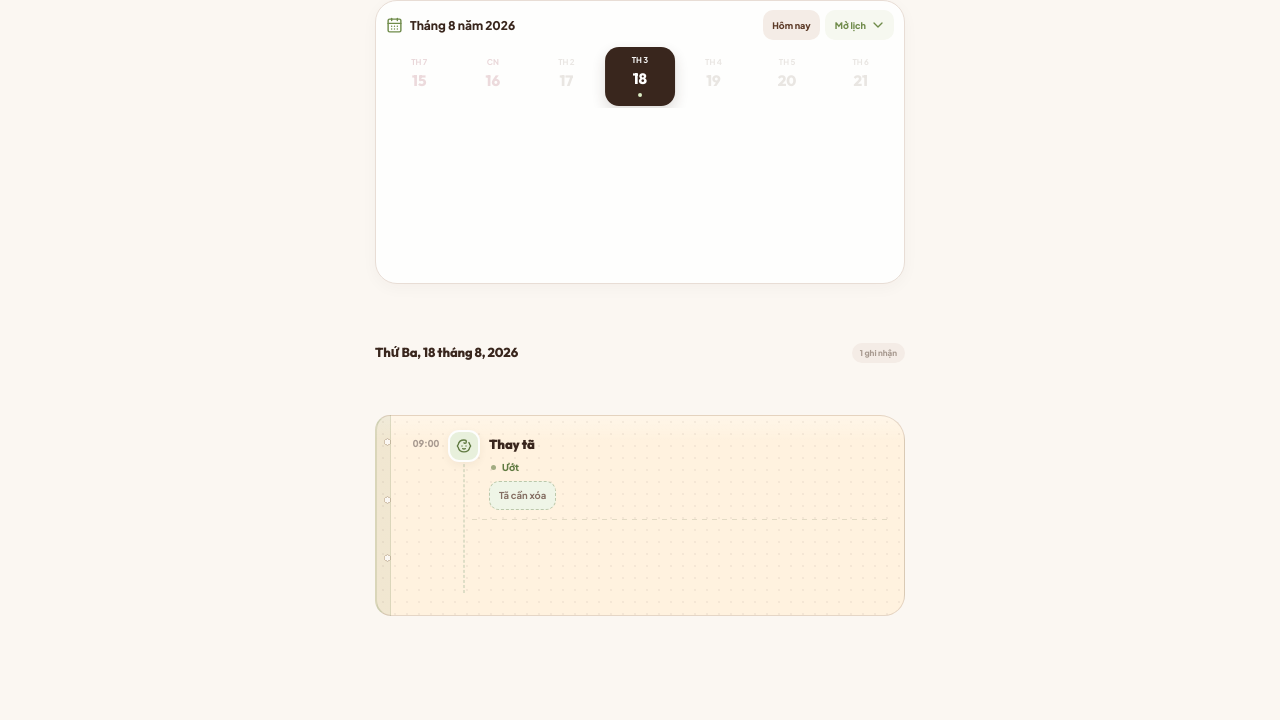
Test: TimelineView › deletes a timeline activity after confirmation
The width and height of the screenshot is (1280, 720).
Click the button "Thay tã Ướt Tã cần xóa" at (512, 444), box [489, 437, 891, 510]
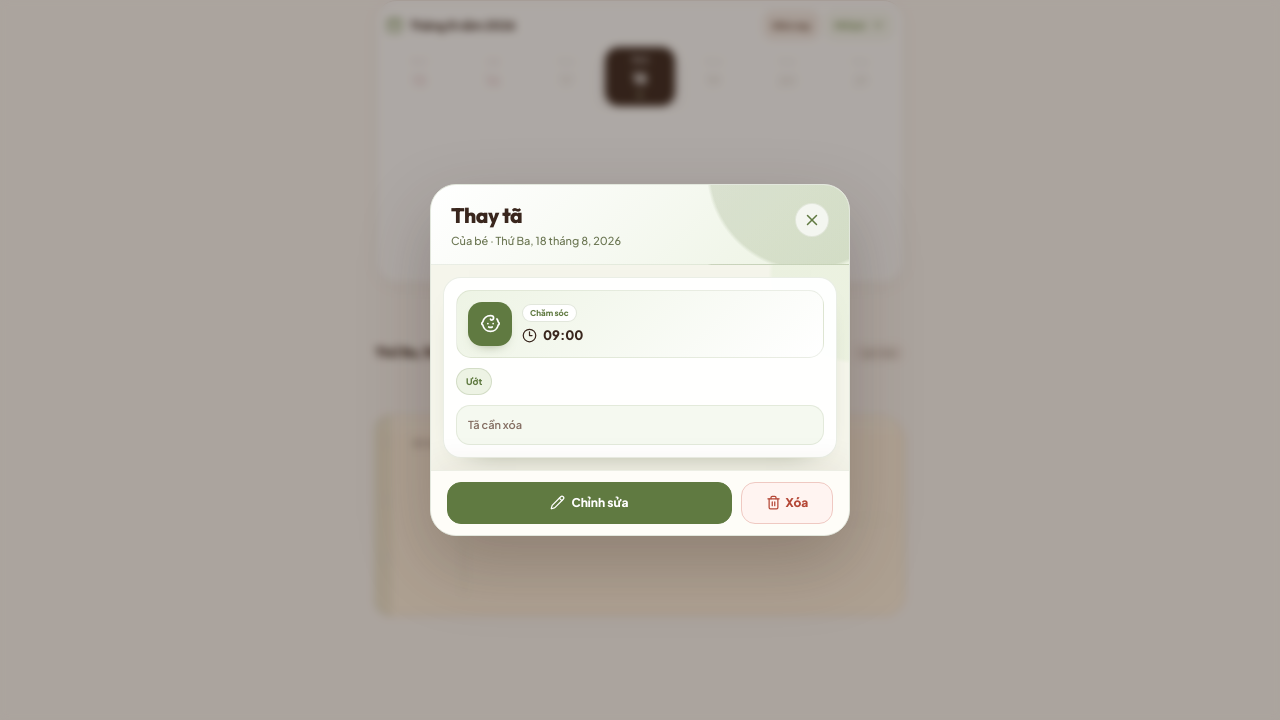
Click the button "Xóa" at (787, 503), box [741, 482, 833, 524]
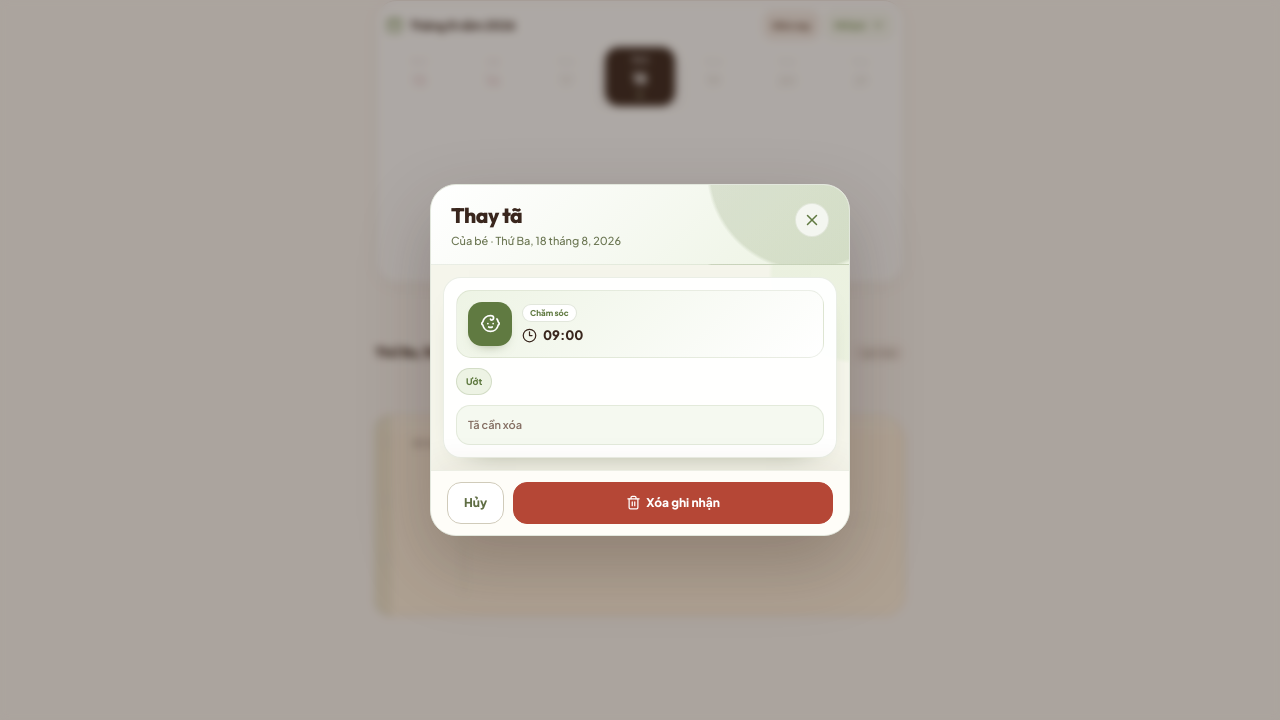
Expected: the button "Xóa ghi nhận" is shown
Click the button "Xóa ghi nhận" at (673, 503), box [513, 482, 833, 524]
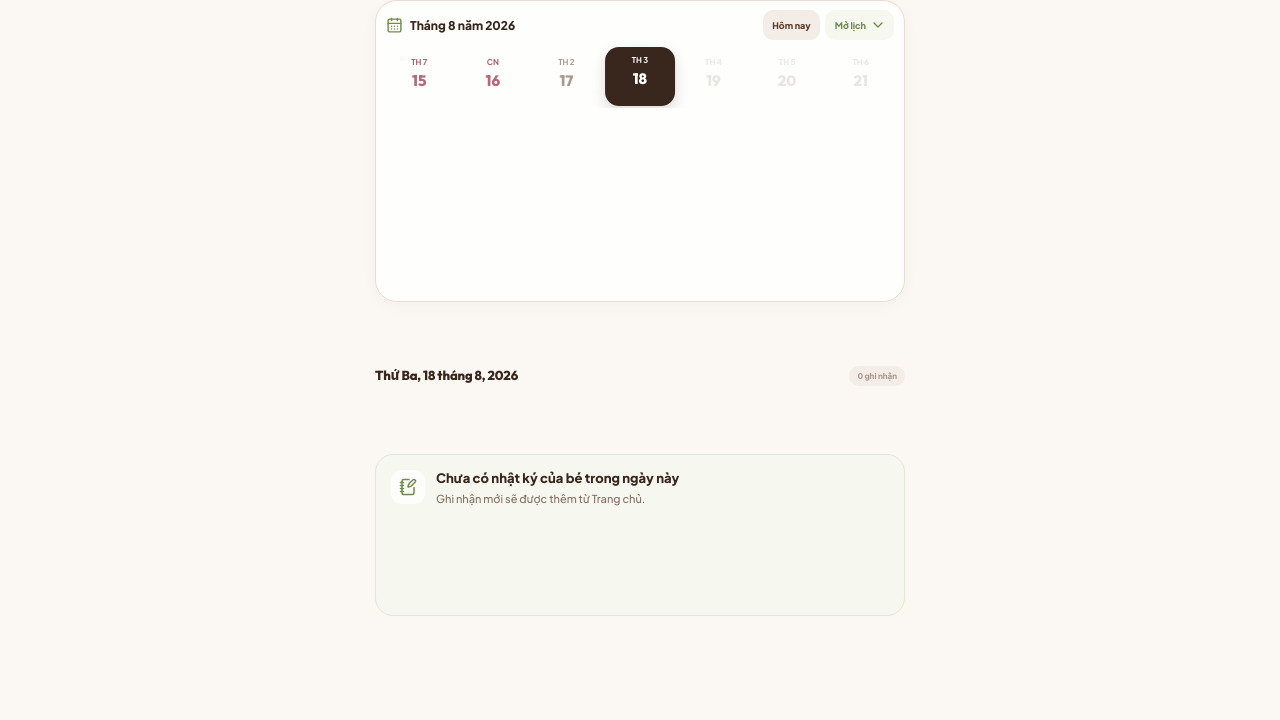
Expected: the button "Thay tã" is gone
Expected: the button "Tã cần xóa" is gone
